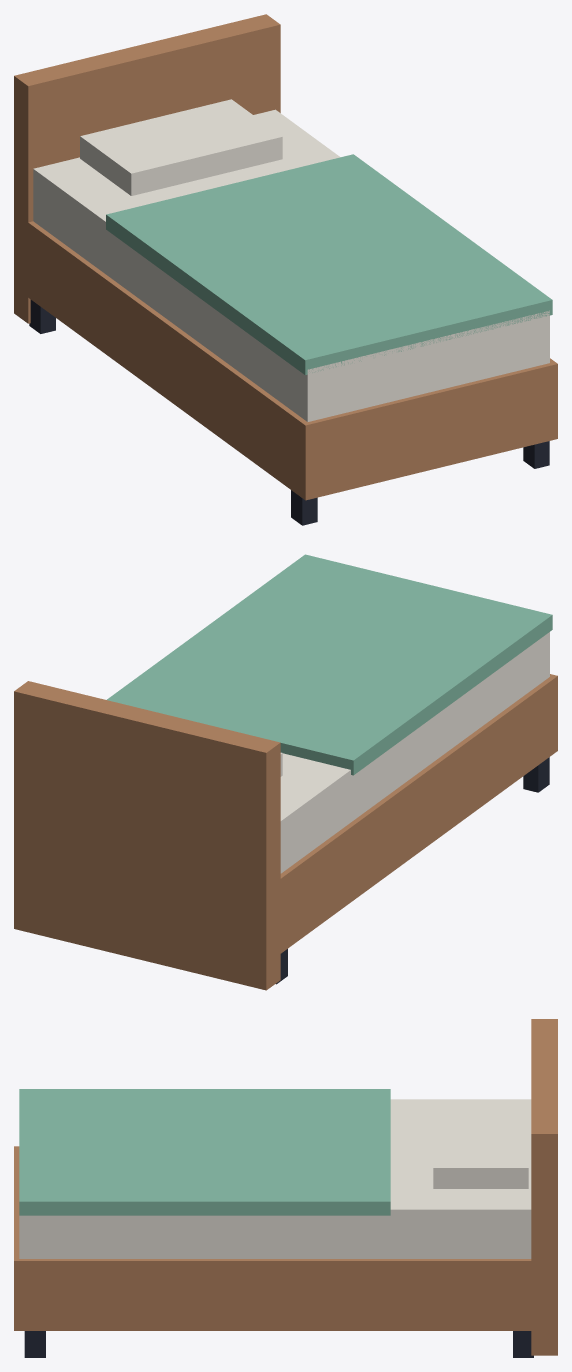
Rendered from twin-xl-bed.glb.
3 views of the same model, one above another, from view 1: azimuth 30°, elevation 25°; view 2: azimuth 150°, elevation 25°; view 3: azimuth 270°, elevation 25° (orthographic). The views are drawn at different scales.
Parts seen in each view (by area): view 1: twin-xl-bed; view 2: twin-xl-bed; view 3: twin-xl-bed.
Part boxes in pixels (left/top/right/bottom): twin-xl-bed: left=14, top=14, right=557, bottom=525; twin-xl-bed: left=14, top=554, right=557, bottom=990; twin-xl-bed: left=14, top=1019, right=557, bottom=1357.
Bounding box in the file's own units: 104 × 95 × 208.
